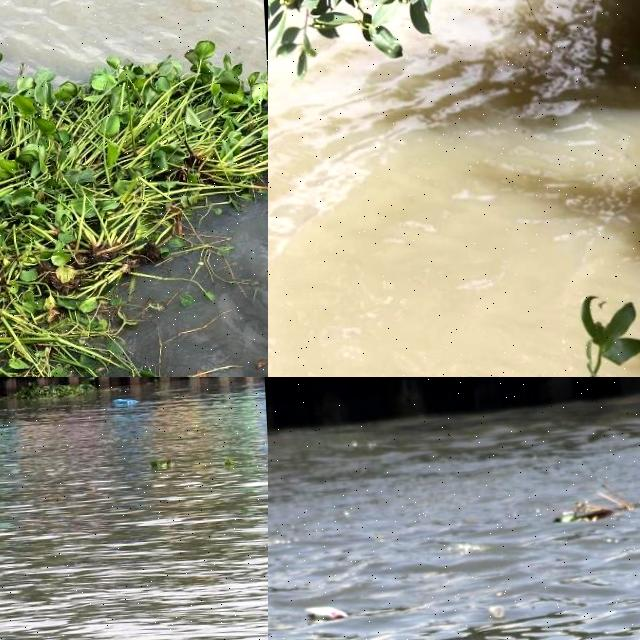water-hyacinth: (1, 39, 268, 366), (1, 378, 106, 415)
